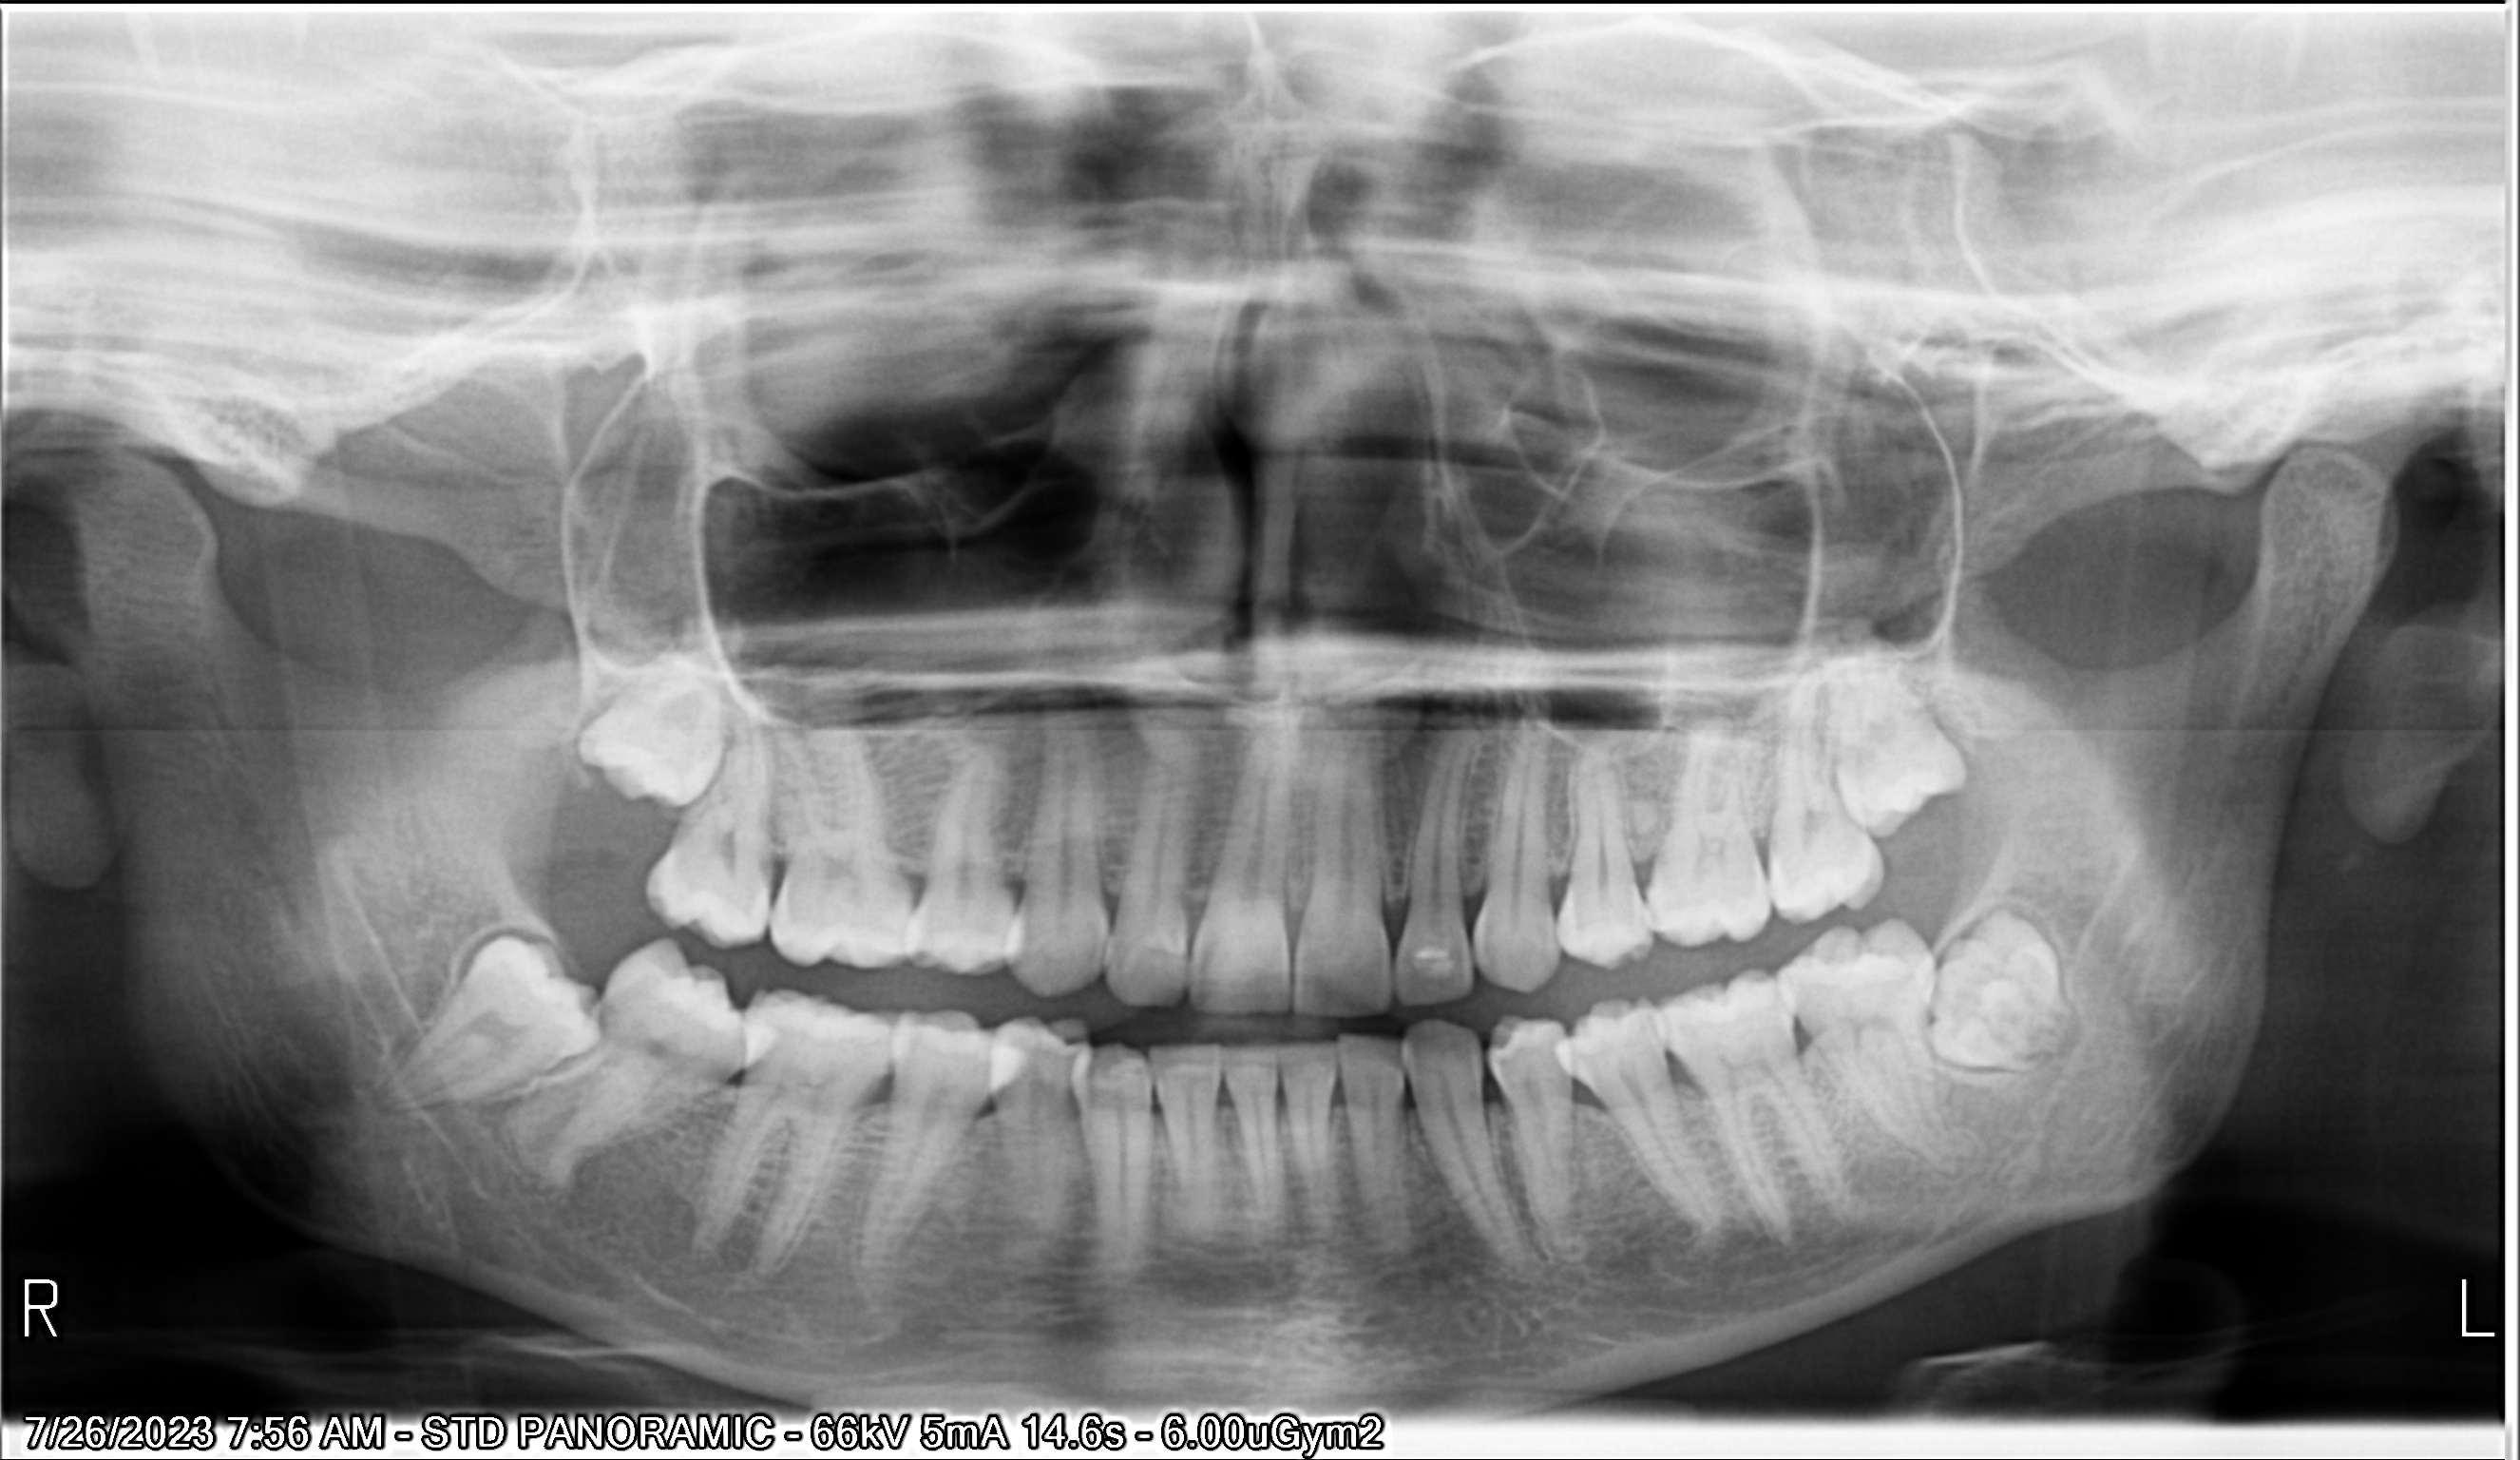IMT: (1954, 932, 2101, 1093), (422, 923, 580, 1071), (566, 645, 714, 798), (1824, 662, 1976, 806)
